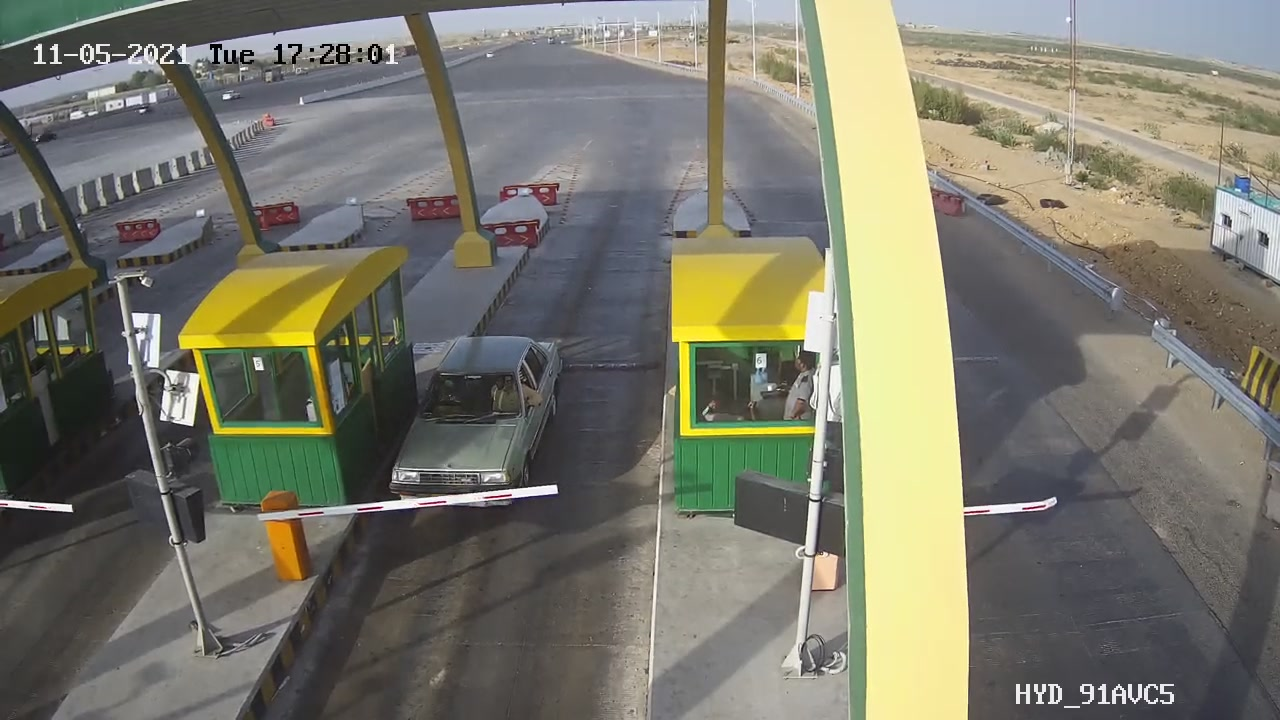F1: (372, 317, 583, 526)
